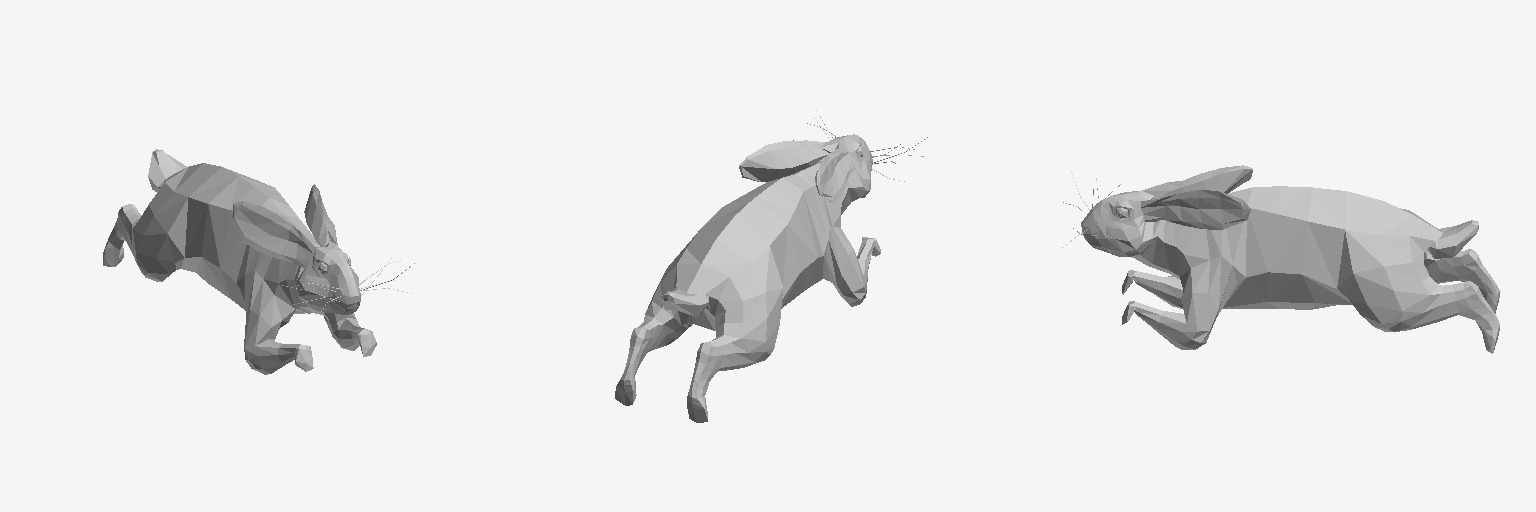
File: rabbit_000004.obj
3 views of the same model, side by side, from view 1: azimuth 30°, elevation 25°; view 2: azimuth 150°, elevation 25°; view 3: azimuth 270°, elevation 25° (orthographic).
Visible parts, largest first — view 1: Rabbit_Cylinder; view 2: Rabbit_Cylinder; view 3: Rabbit_Cylinder.
Boxes of the visible parts, <box> form: Rabbit_Cylinder: <box>103,149,414,374</box>; Rabbit_Cylinder: <box>615,110,927,422</box>; Rabbit_Cylinder: <box>1062,165,1500,353</box>.
Size of the model in its own units: 6.98 by 9.14 by 22.63.